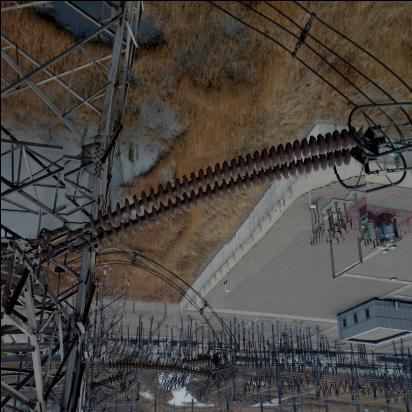insulator: (64, 126, 368, 249), (103, 348, 216, 396)
